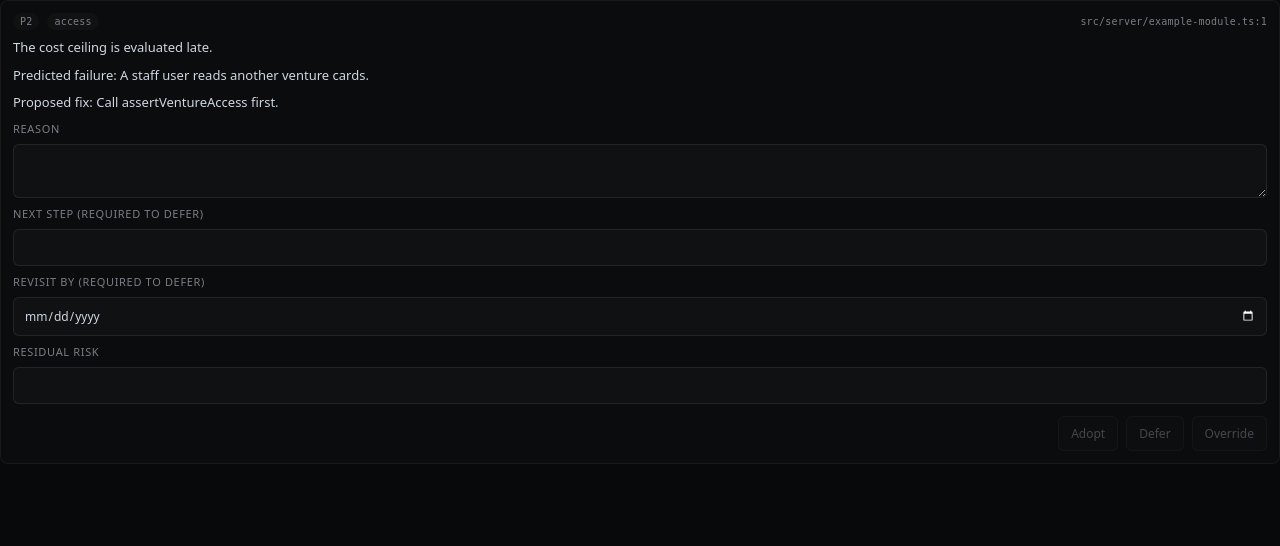
the findings panel › renders the server refusal verbatim when adjudication is refused, never a predicted reason
Check: the text "The cost ceiling is evaluated late." is shown, box [13,38,213,56]
In the text box labelled "Reason": (640, 170) [13,144,1267,198], type "Revisit later."
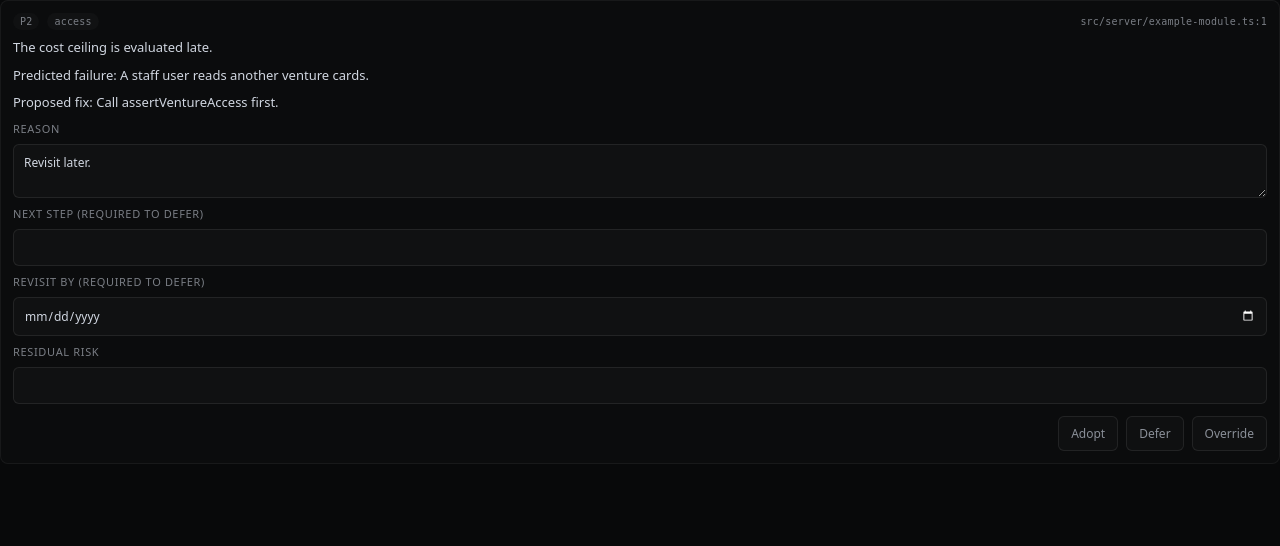
Click the button "Defer": (1155, 433) [1126,416,1184,450]
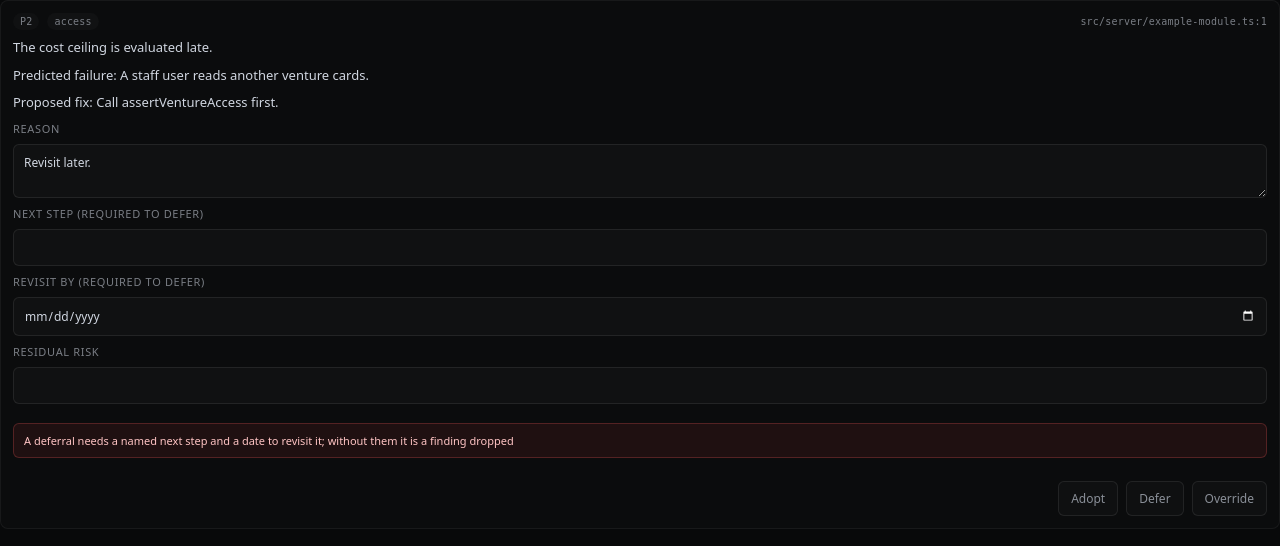
Check: the text "A deferral needs a named next step and a date to revisit it; without them it is a finding dropped" is shown, box [24,432,514,448]
